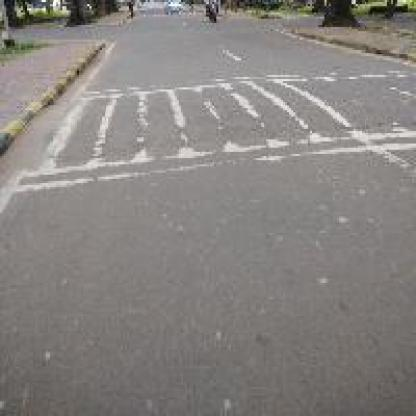Speed Bump: (23, 71, 412, 185)
